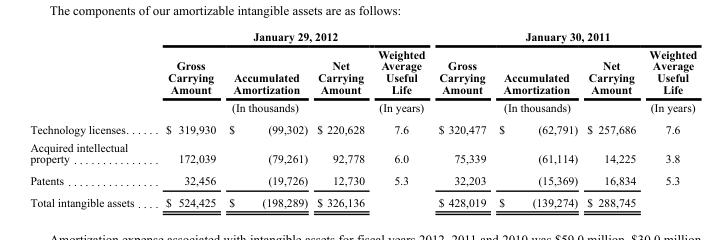table: (29, 29, 696, 208)
table column: (29, 29, 149, 208), (221, 29, 311, 208), (491, 29, 581, 208), (149, 29, 221, 208), (370, 29, 431, 208), (431, 29, 491, 208), (581, 29, 641, 208), (311, 29, 370, 208), (641, 29, 696, 208)
table column header: (29, 29, 696, 117)
table row: (29, 44, 696, 97), (29, 137, 696, 169), (29, 169, 696, 191), (29, 97, 696, 117), (29, 117, 696, 137), (29, 191, 696, 208), (29, 29, 696, 44)
table spanning cell: (370, 44, 431, 117), (149, 97, 370, 117), (149, 29, 431, 44), (431, 97, 641, 117), (641, 44, 696, 117), (431, 29, 696, 44)
